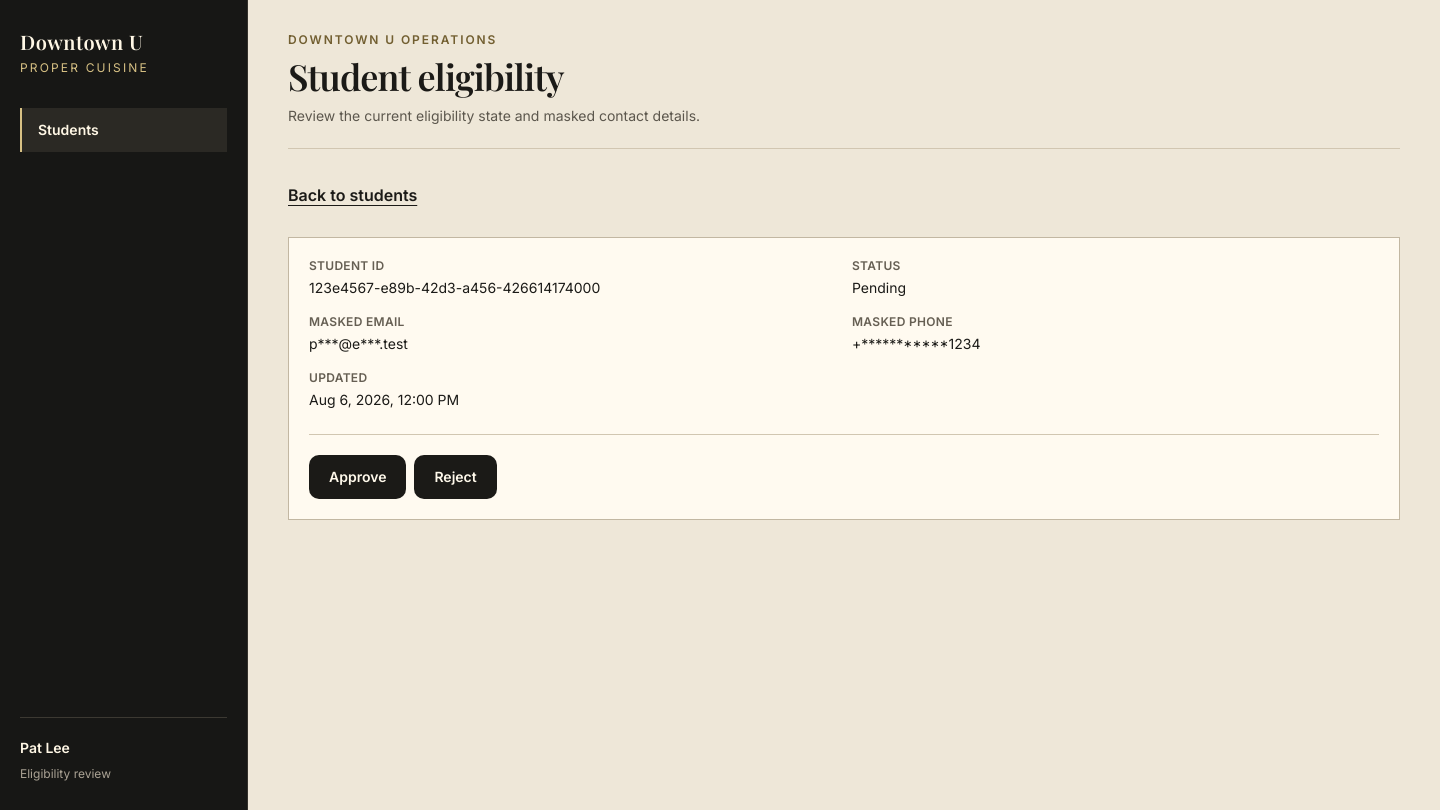
Test: eligibility mutation wizard › commits authoritative response to the exact cache after external unmount during an in-flight mutation
This screenshot has width=1440, height=810.
Click the button "Approve" at point(358, 477), box 309,455 -> 406,499
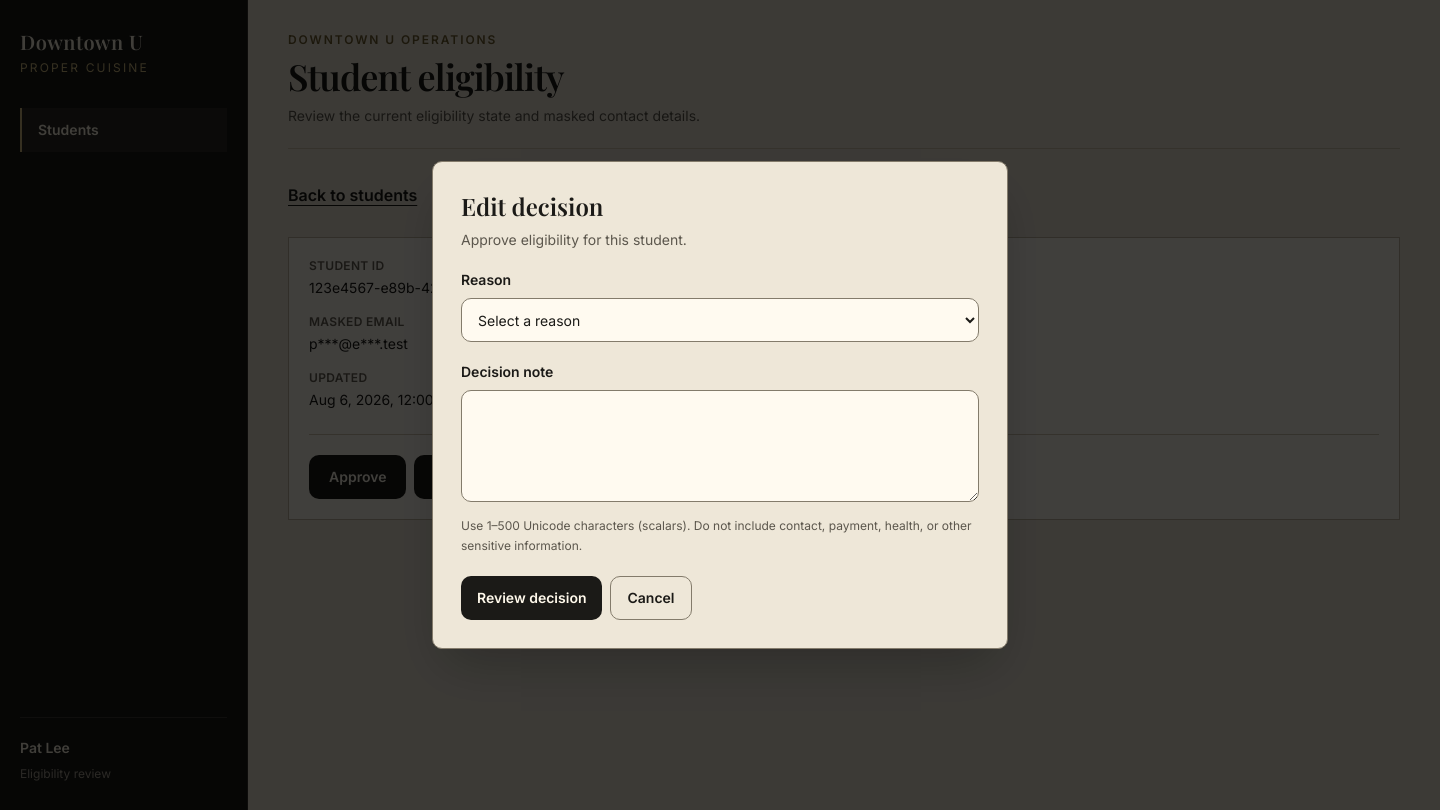
Select "Documentation verified" in the dropdown labelled "Reason" at point(720, 320), box 461,298 -> 979,342
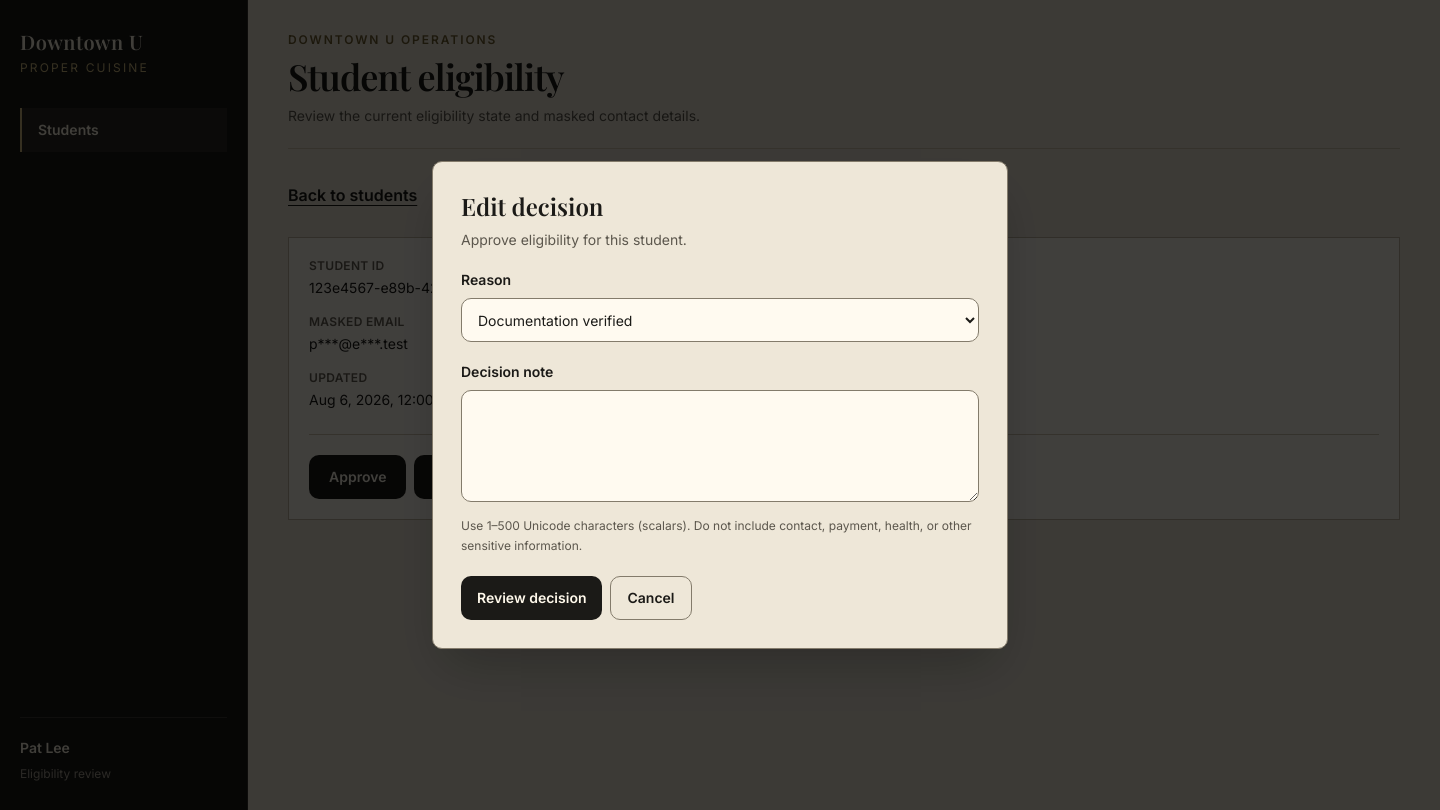
Type "Documents verified" into the text box labelled "Decision note" at point(720, 446), box 461,390 -> 979,502
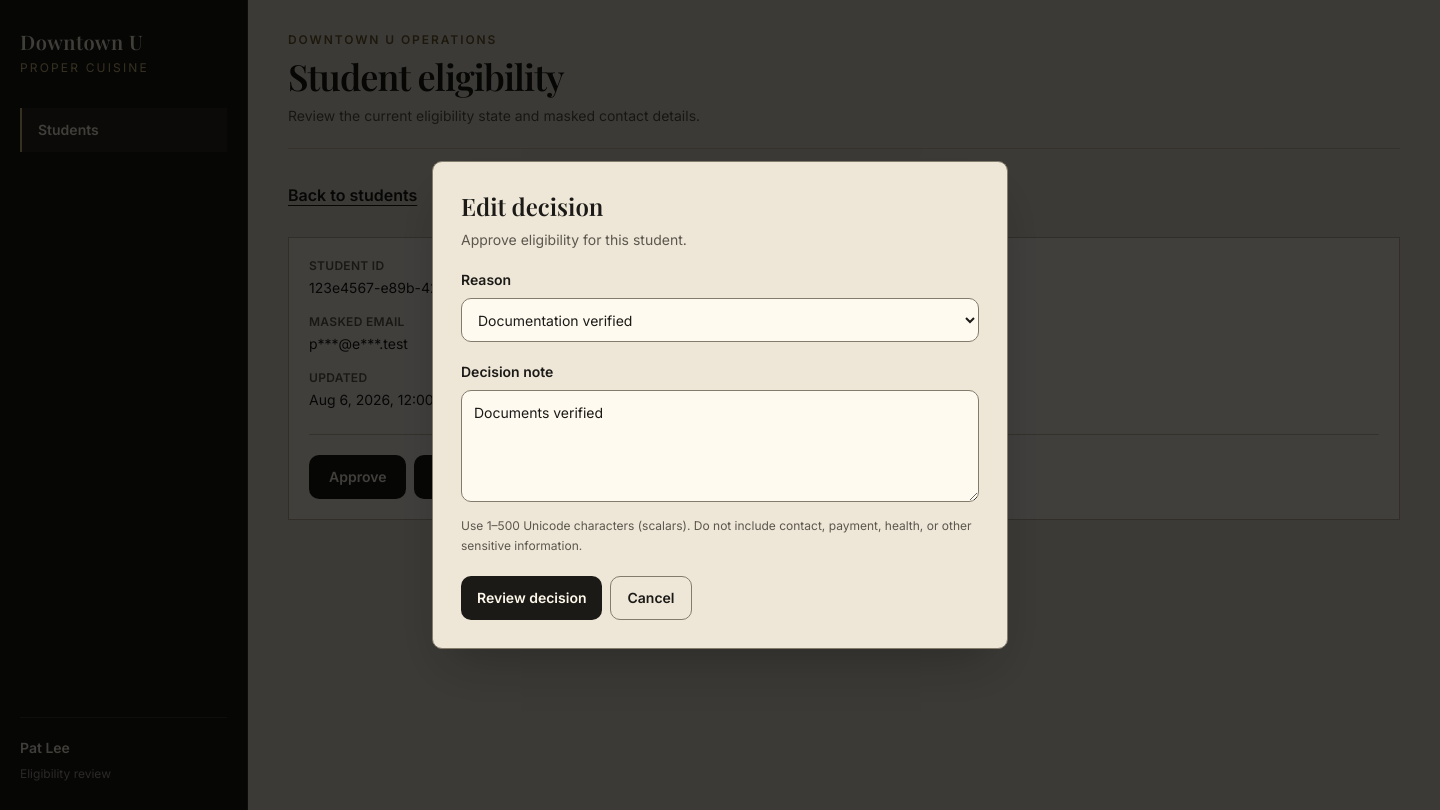
Click the button "Review decision" at point(532, 598), box 461,576 -> 602,620
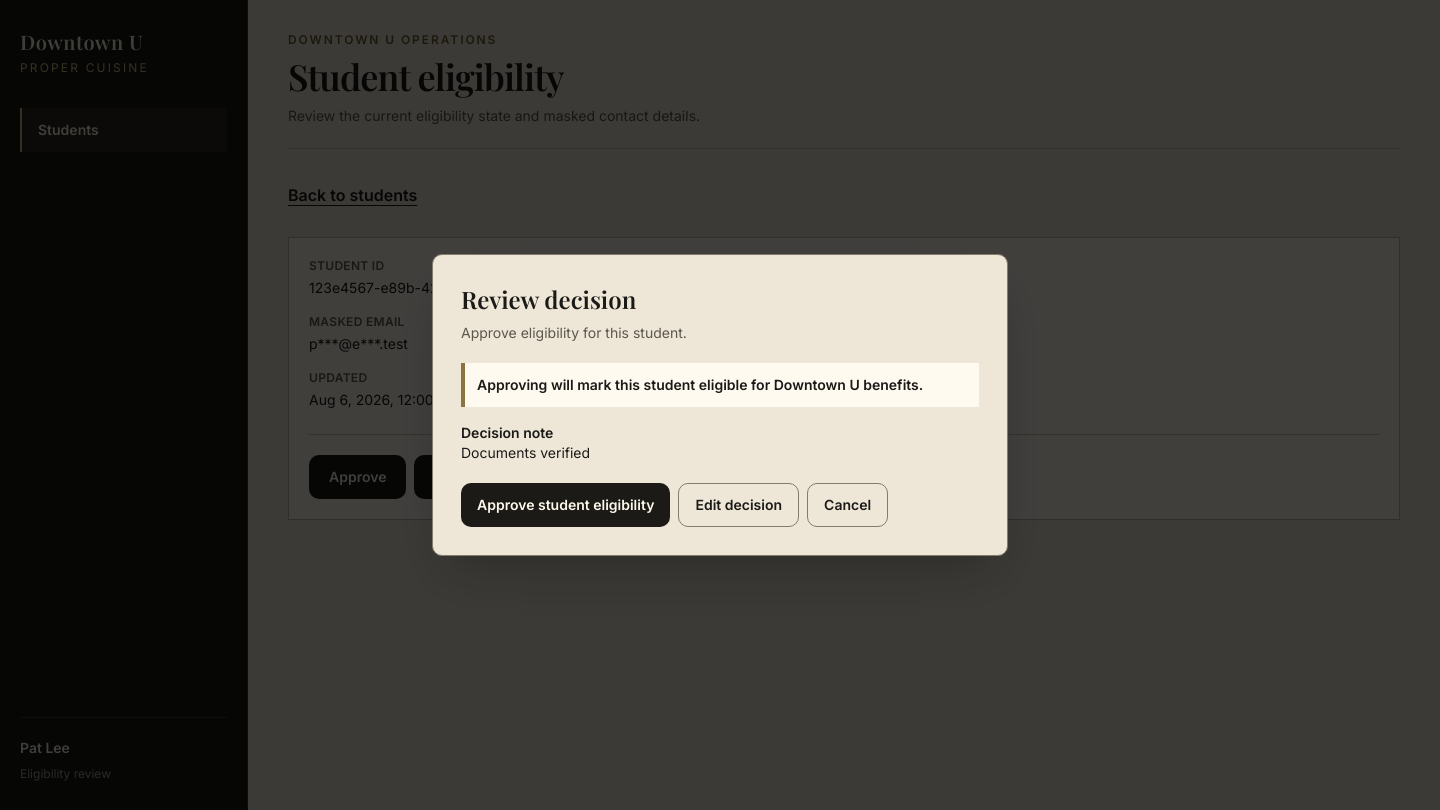
Click the button "Approve student eligibility" at point(566, 505), box 461,483 -> 670,527
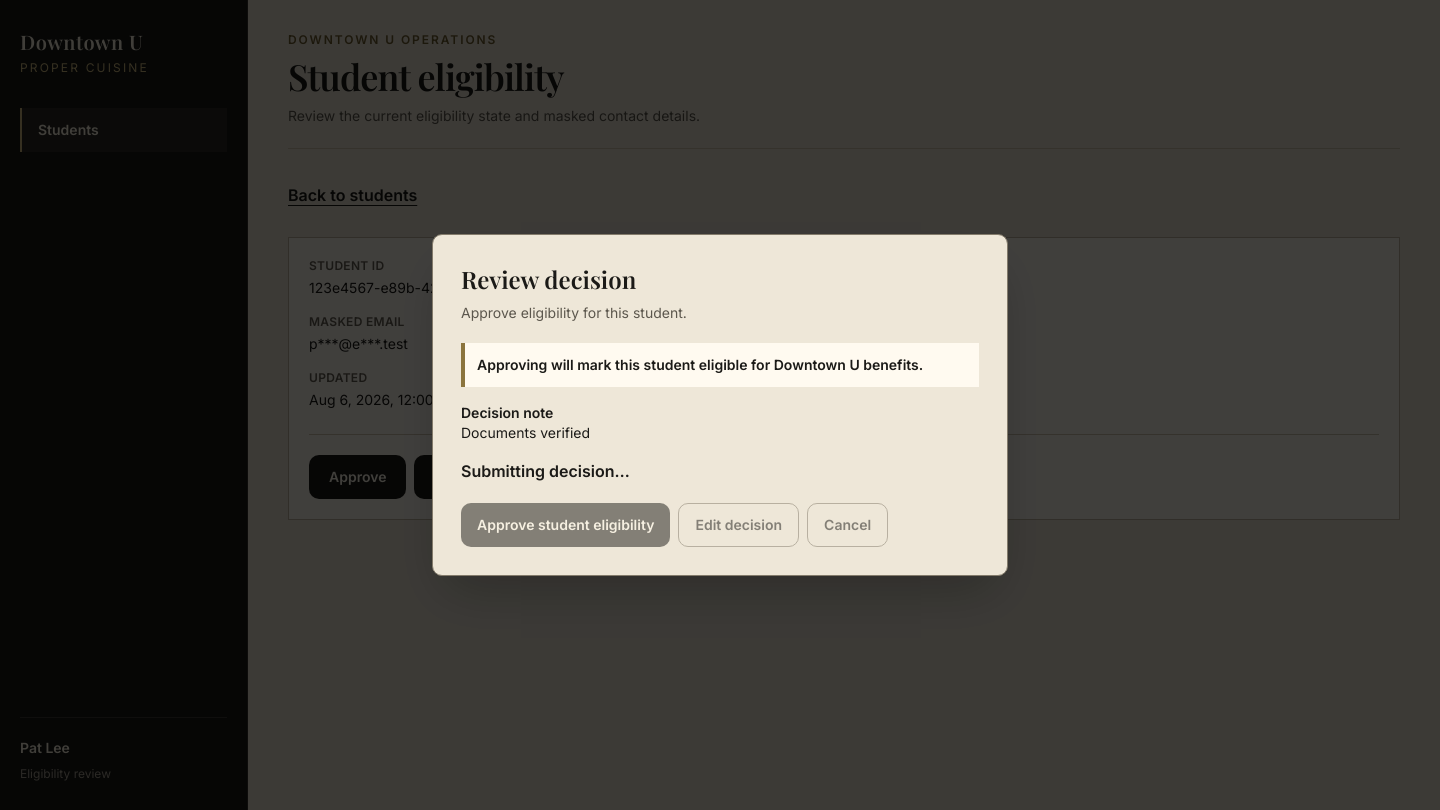
Expected: the message shows "Submitting decision", 461,461 -> 630,481
